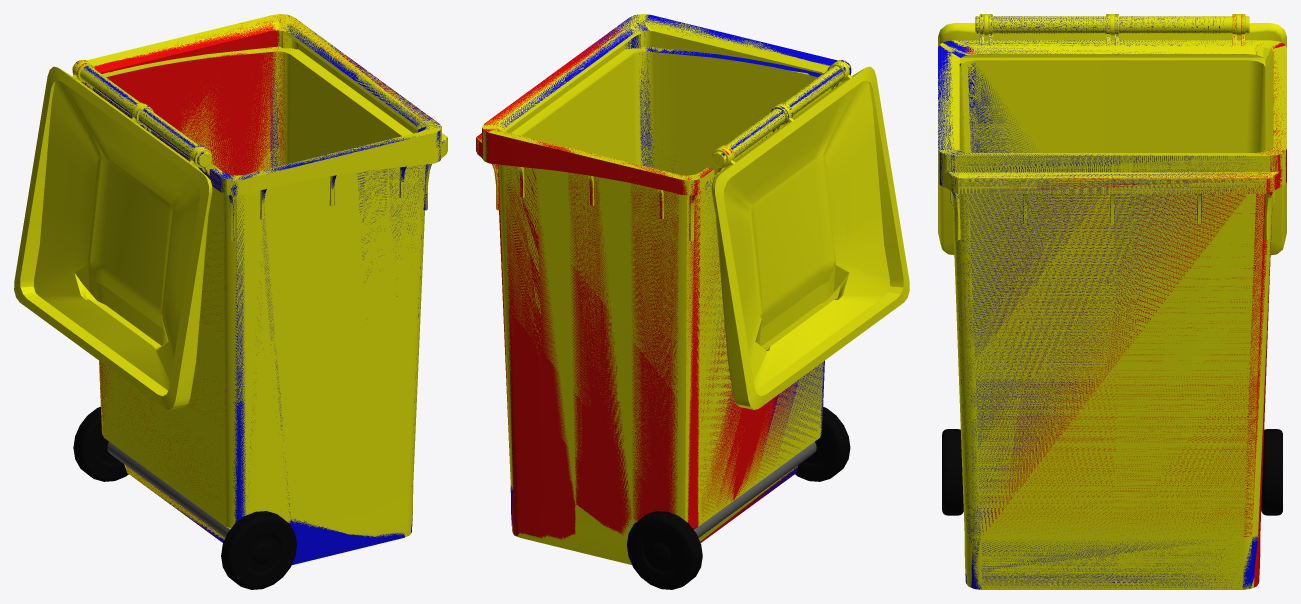
Rendered from RecyclingBins.fbx.
3 renders of one model, left to right at view 1: azimuth 30°, elevation 25°; view 2: azimuth 150°, elevation 25°; view 3: azimuth 270°, elevation 25°, orthographic. The views are drawn at different scales.
Visible parts, largest first — view 1: PlasticBin, PlasticLid, ElectronicBin, MetalBin; view 2: PlasticBin, ElectronicBin, PlasticLid, MetalBin; view 3: PlasticBin, MetalBin, ElectronicBin, PlasticLid.
Part boxes in pixels (x1=…): PlasticBin: x1=72, y1=14, x2=447, y2=589; PlasticLid: x1=14, y1=61, x2=212, y2=409; ElectronicBin: x1=73, y1=14, x2=433, y2=541; MetalBin: x1=76, y1=22, x2=447, y2=589; PlasticBin: x1=477, y1=14, x2=851, y2=589; ElectronicBin: x1=476, y1=22, x2=814, y2=589; PlasticLid: x1=711, y1=61, x2=909, y2=409; MetalBin: x1=498, y1=14, x2=851, y2=530; PlasticBin: x1=938, y1=14, x2=1286, y2=589; MetalBin: x1=938, y1=14, x2=1260, y2=589; ElectronicBin: x1=962, y1=14, x2=1286, y2=587; PlasticLid: x1=938, y1=14, x2=1286, y2=255.
Size of the model in its own units: 81.47 by 120 by 80.17.
